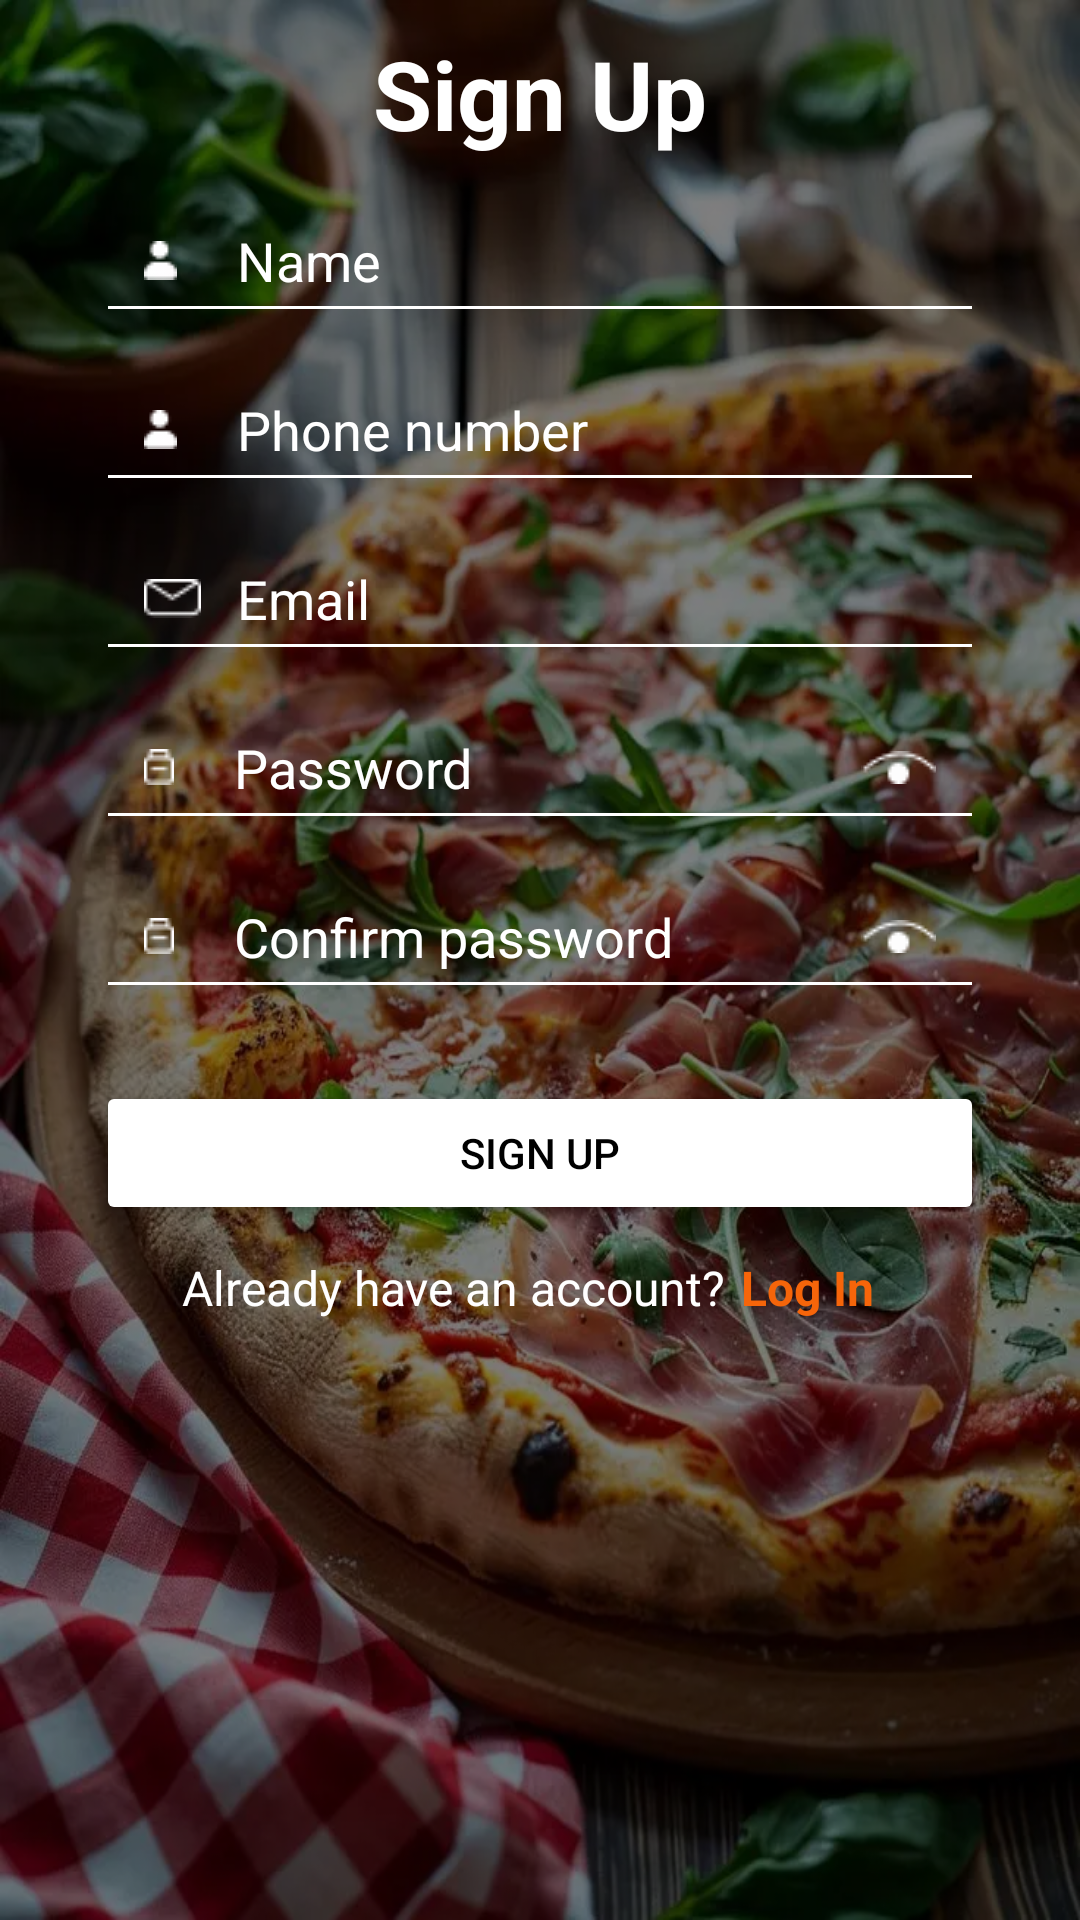

Where to tap for icons on this 1080 × 1920 app screen, as (x,y):
hidden: (898,767), (898,936)
